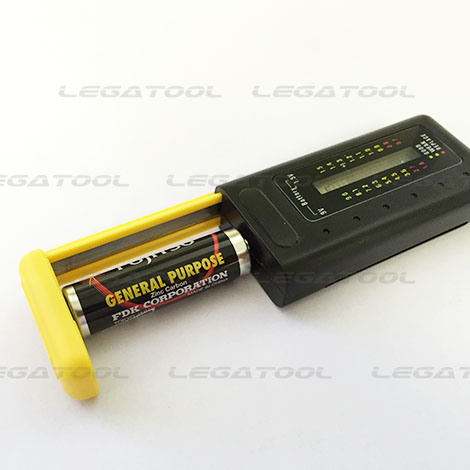Battery: (59, 227, 252, 338)
